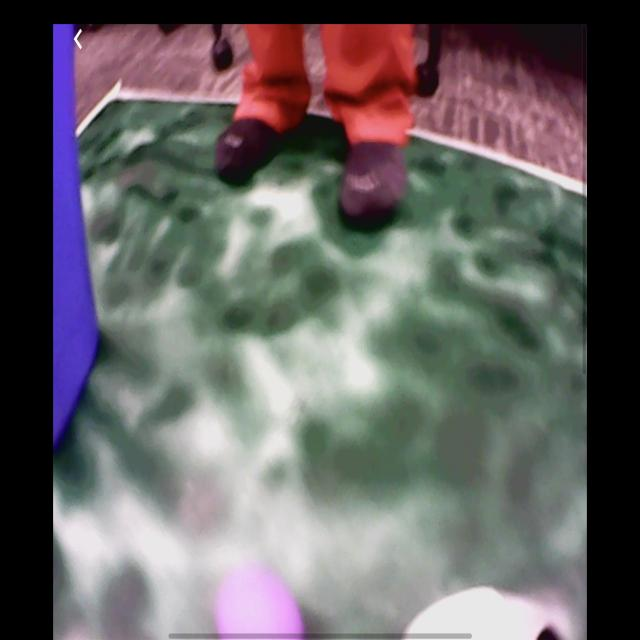ball: (215, 566, 304, 640)
